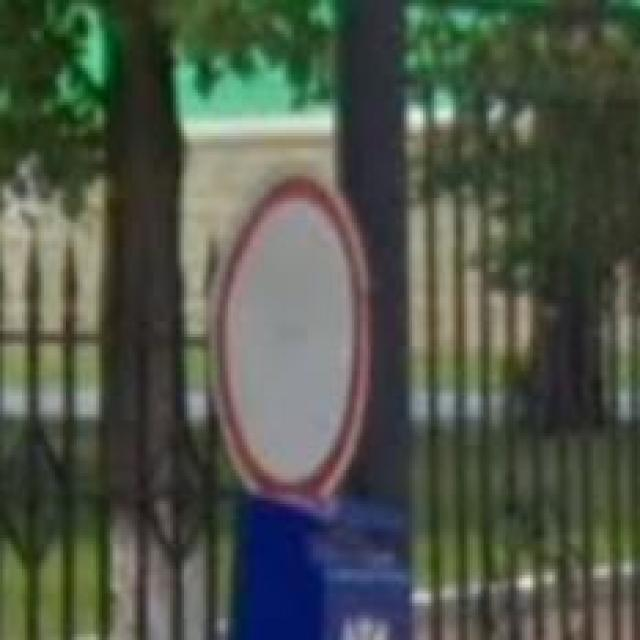traffic_sign: (206, 164, 371, 504)
